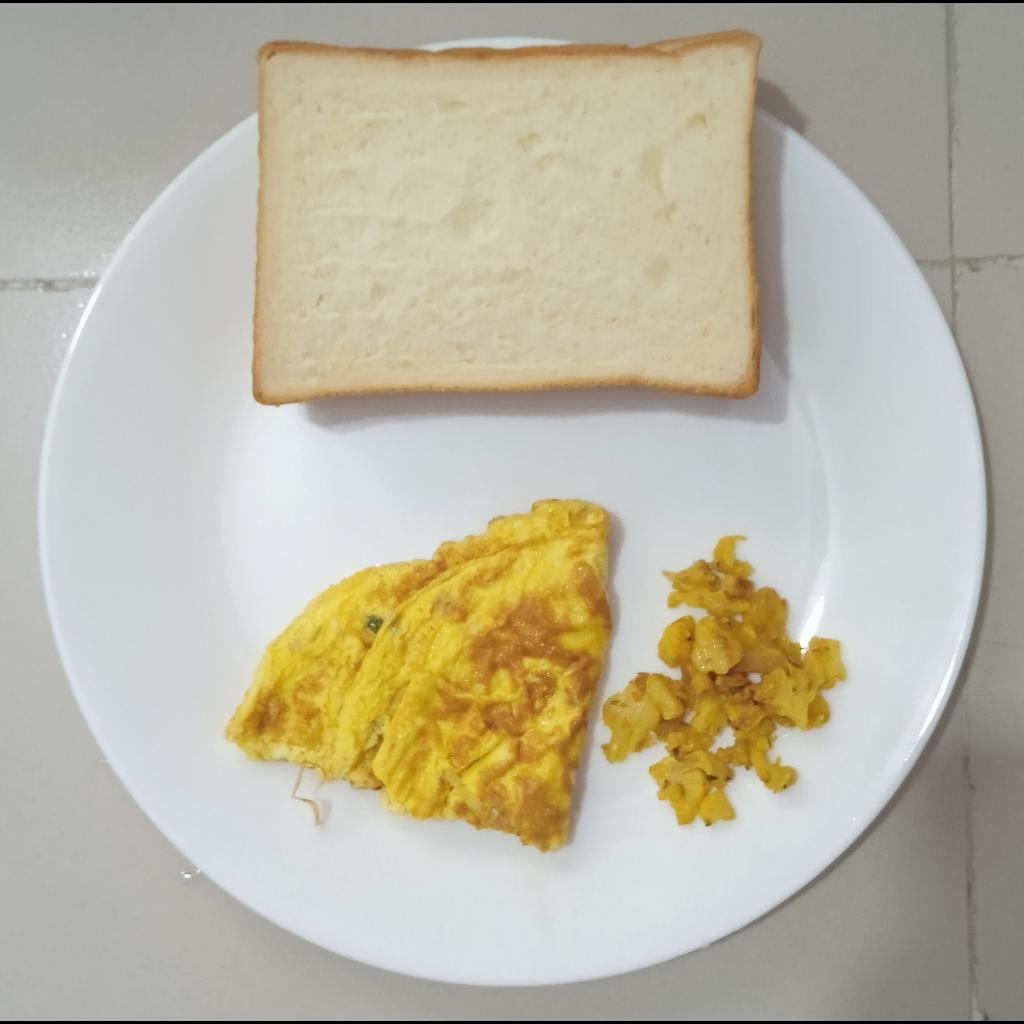bread: (253, 30, 764, 405)
cauliflower: (602, 536, 846, 825)
egg-poached: (223, 499, 614, 853)
